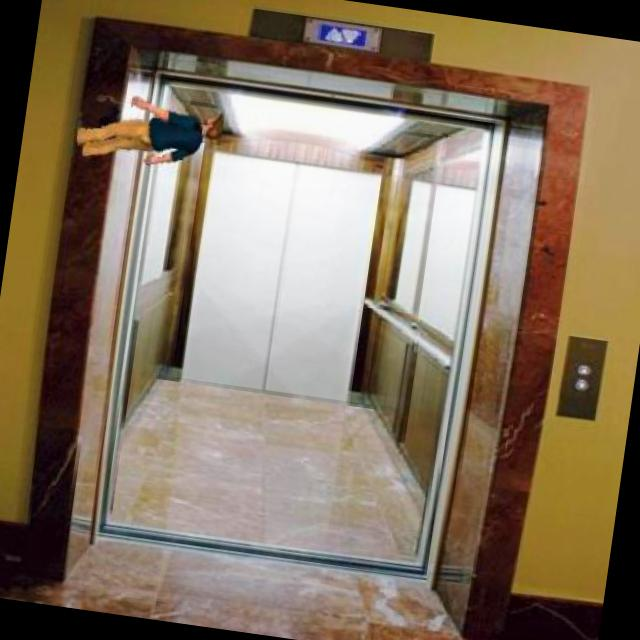Person: (69, 86, 232, 180)
